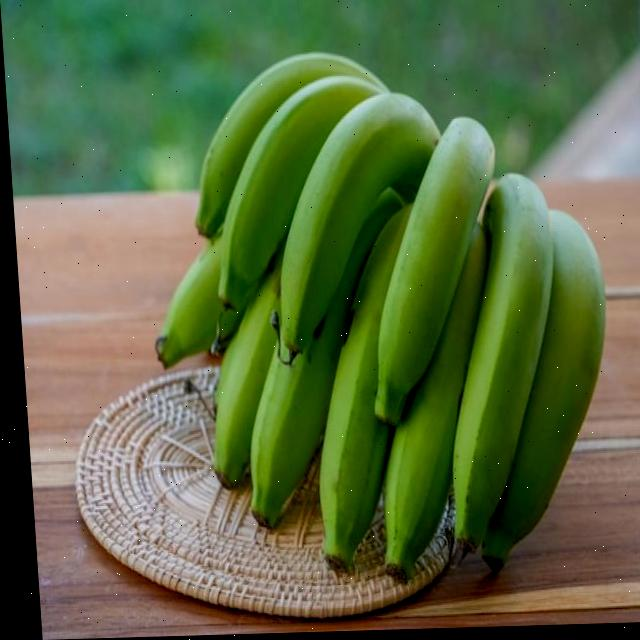banana: (132, 32, 631, 597)
